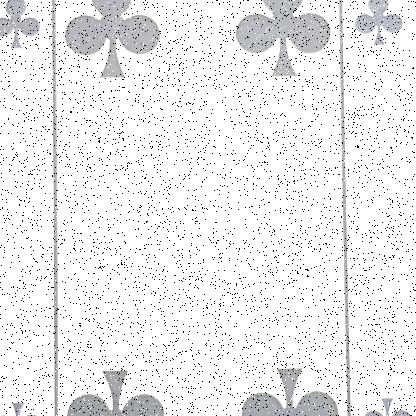4c: (342, 0, 415, 74), (0, 0, 54, 60)
